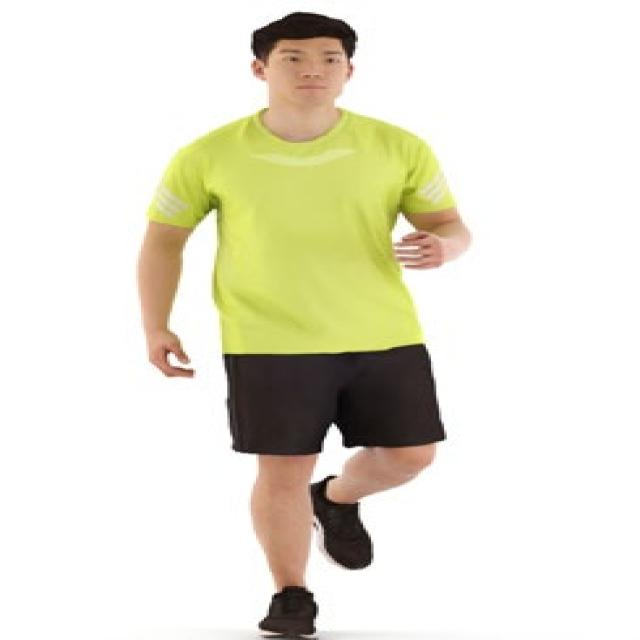running: (135, 9, 487, 640)
